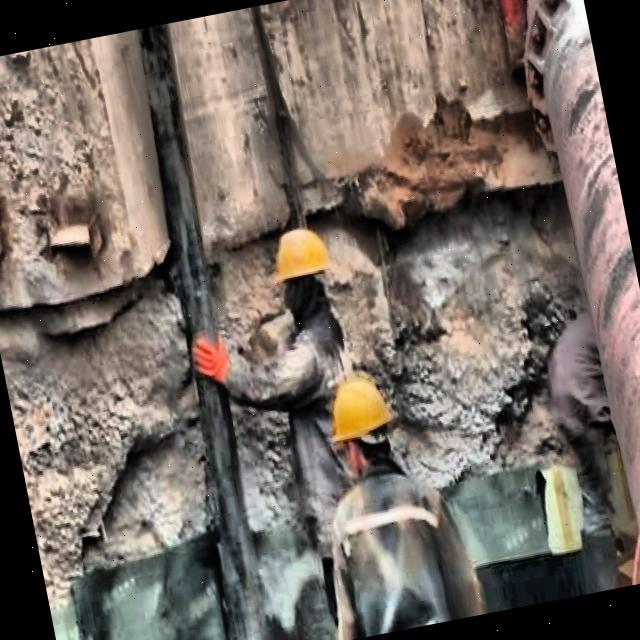helmet: (316, 368, 404, 487), (258, 218, 348, 328)
